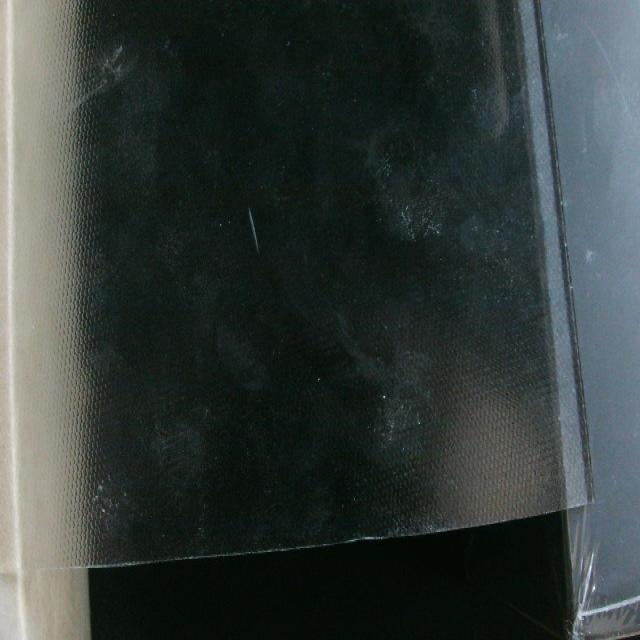edge_chip: (342, 525, 398, 552)
scratch: (237, 196, 265, 262)
